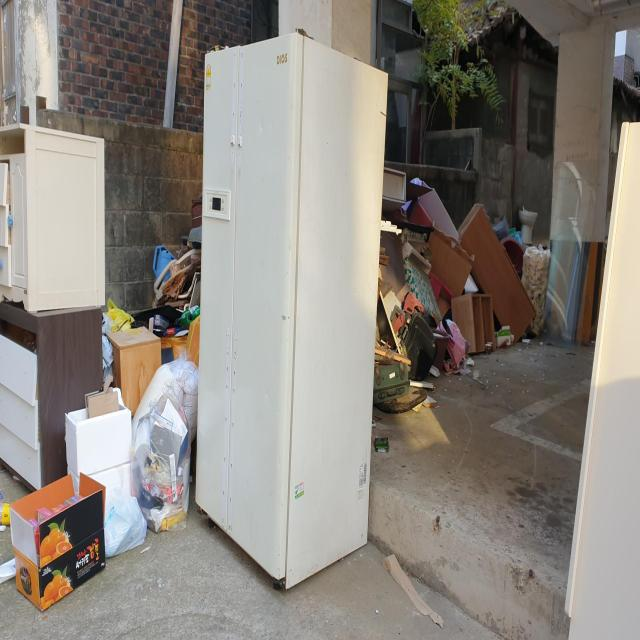refrigerator: (195, 31, 390, 588)
